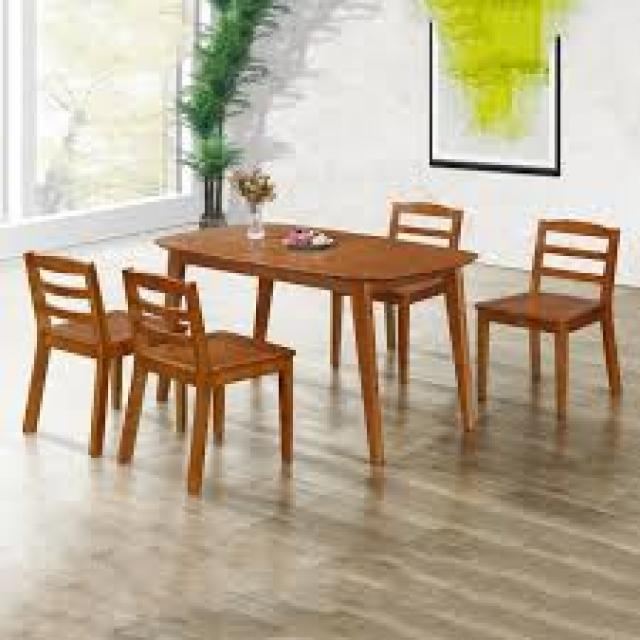table: (13, 190, 635, 490)
